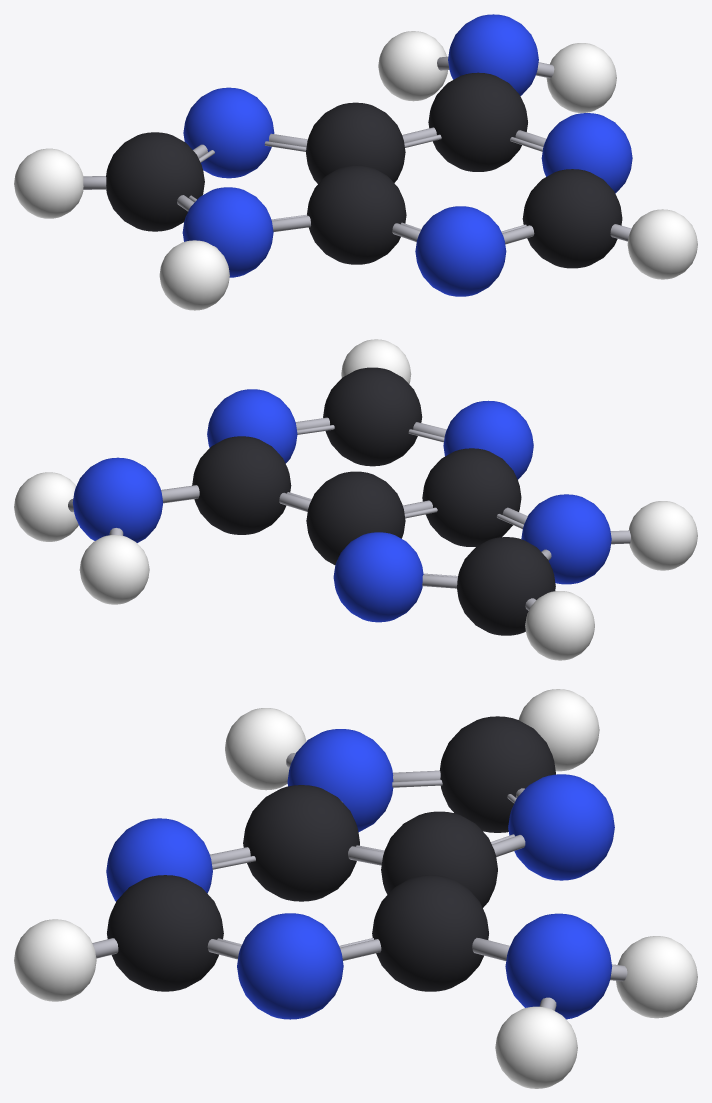
File: adenine.glb
3 views of the same model, one above another, from view 1: azimuth 30°, elevation 25°; view 2: azimuth 150°, elevation 25°; view 3: azimuth 270°, elevation 25° (orthographic). The views are drawn at different scales.
Parts seen in each view (by area): view 1: C5, C3, C1, C7, N4, N8, C9, N6, N0, N2, H12, H13 (+4 smaller); view 2: C1, C3, C5, C7, N8, C9, N0, N6, N4, N2, H14, H11 (+4 smaller); view 3: C5, C1, C3, C7, N2, N8, N0, C9, N6, N4, H12, H10 (+3 smaller).
Part boxes in pixels (x1,y1,x2,y2): C5: [307, 165, 406, 264]; C3: [522, 169, 622, 268]; C1: [428, 72, 527, 171]; C7: [106, 132, 204, 231]; N4: [415, 206, 506, 296]; N8: [183, 87, 274, 178]; C9: [306, 102, 405, 183]; N6: [182, 187, 273, 277]; N0: [448, 14, 538, 95]; N2: [541, 113, 632, 193]; H12: [627, 209, 697, 279]; H13: [159, 240, 229, 310]; C1: [192, 436, 291, 534]; C3: [323, 367, 422, 466]; C5: [422, 448, 521, 546]; C7: [457, 537, 555, 635]; N8: [333, 532, 423, 622]; C9: [306, 471, 405, 565]; N0: [72, 457, 163, 542]; N6: [521, 494, 611, 584]; N4: [443, 400, 533, 479]; N2: [207, 389, 297, 463]; H14: [525, 591, 594, 660]; H11: [79, 535, 149, 604]; C5: [243, 785, 359, 901]; C1: [372, 875, 488, 991]; C3: [107, 875, 223, 991]; C7: [439, 716, 555, 832]; N2: [237, 913, 343, 1019]; N8: [508, 774, 614, 880]; N0: [505, 913, 612, 1019]; C9: [381, 811, 497, 907]; N6: [287, 729, 393, 831]; N4: [106, 818, 212, 901]; H12: [14, 919, 96, 1001]; H10: [495, 1006, 577, 1088].
Size of the model in its own units: 6.9 by 1.17 by 5.96.
